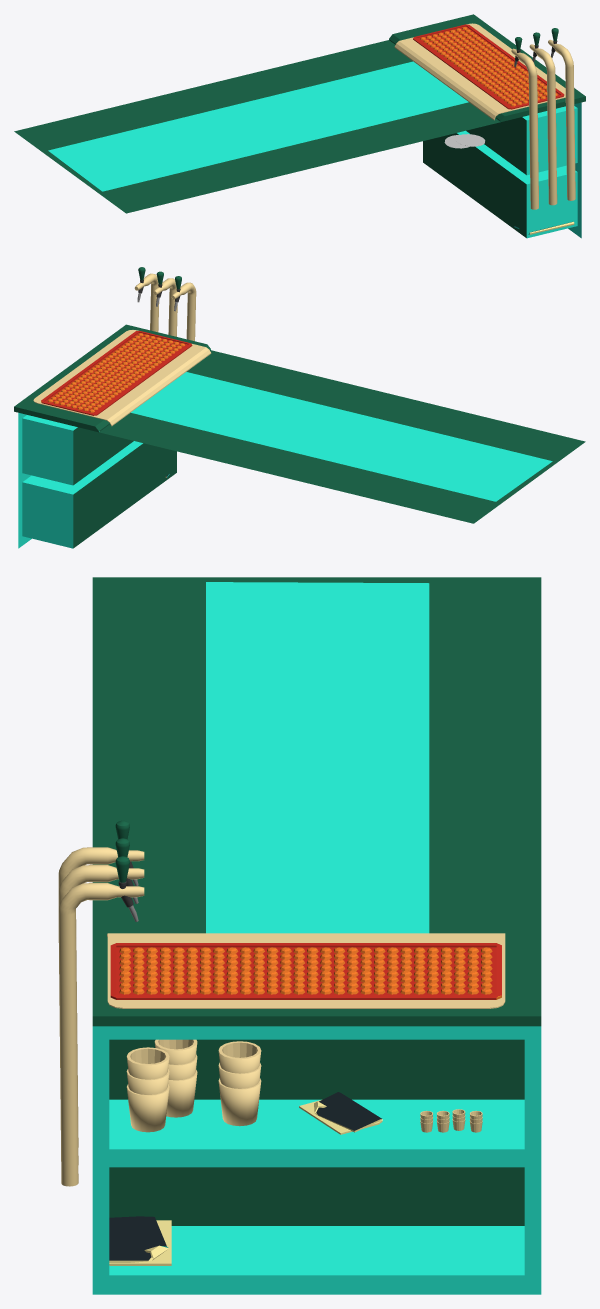
The model's file is Table_mint.FBX.
3 renders of one model, top to bottom at view 1: azimuth 30°, elevation 25°; view 2: azimuth 150°, elevation 25°; view 3: azimuth 270°, elevation 25°, orthographic. The views are drawn at different scales.
Parts seen in each view (by area): view 1: stol, bigpodstavka, skatert, kran.000, kran.002, kran.001, Podstavkapodkrygky.002; view 2: stol, bigpodstavka, skatert, kran.001, kran.002, kran.000; view 3: stol, bigpodstavka, skatert, kran.002, Cylinder.002, stakan, Plane.001, Cylinder.001, tryapka, kran.000, kran.001.
Part boxes in pixels (x1,y1,x2,y2): stol: [14, 14, 585, 238]; bigpodstavka: [413, 24, 564, 109]; skatert: [394, 23, 565, 120]; kran.000: [529, 32, 557, 205]; kran.002: [548, 28, 575, 200]; kran.001: [511, 37, 538, 209]; Podstavkapodkrygky.002: [455, 134, 485, 146]; stol: [14, 324, 585, 548]; bigpodstavka: [41, 330, 192, 415]; skatert: [33, 330, 211, 426]; kran.001: [171, 276, 196, 341]; kran.002: [134, 267, 159, 332]; kran.000: [153, 271, 177, 336]; stol: [92, 577, 541, 1294]; bigpodstavka: [110, 943, 501, 999]; skatert: [107, 933, 505, 1008]; kran.002: [58, 856, 144, 1186]; Cylinder.002: [218, 1041, 261, 1126]; stakan: [126, 1047, 169, 1132]; Plane.001: [109, 1216, 171, 1265]; Cylinder.001: [154, 1039, 197, 1117]; tryapka: [299, 1092, 382, 1134]; kran.000: [58, 838, 144, 1164]; kran.001: [58, 820, 144, 1147].
Bounding box in the file's own units: 7065 × 3074 × 3214.
